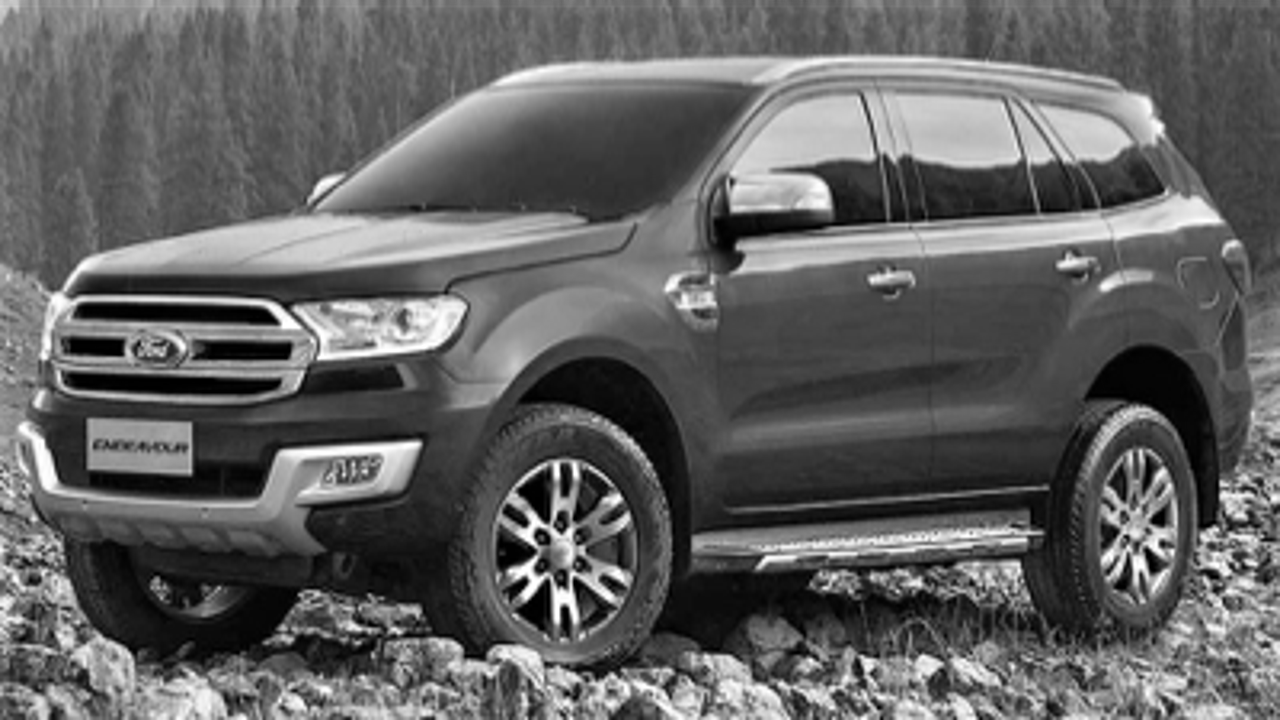license: (80, 412, 204, 483)
